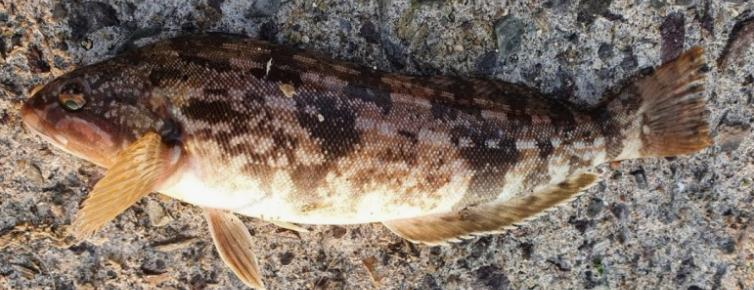fish: (21, 35, 712, 289)
